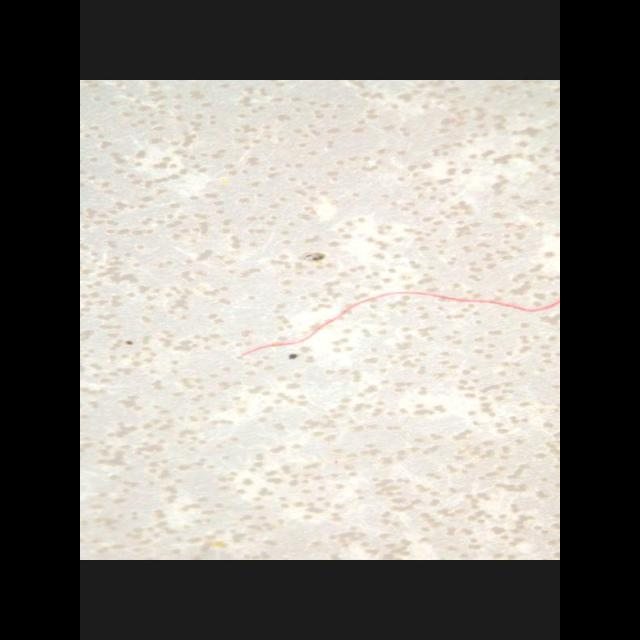Fibre: (240, 226, 560, 358)
